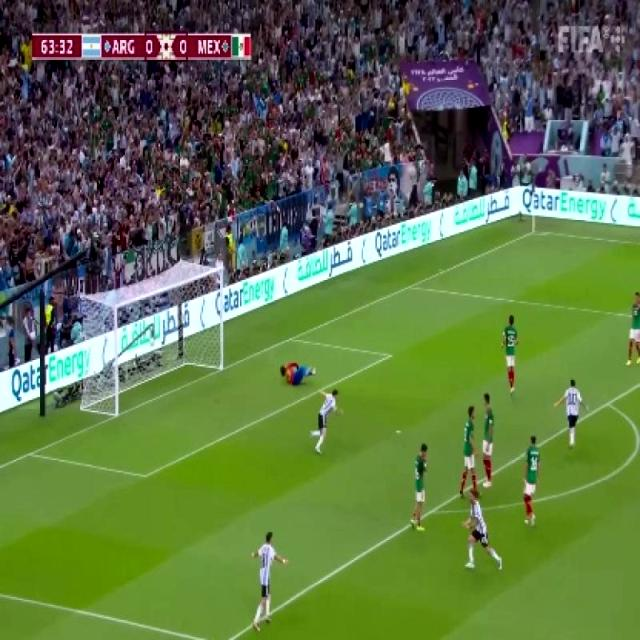bigarea_top_outter: (404, 280, 416, 292)
bottom_arc_area_intersection: (426, 504, 437, 519)
corner: (529, 228, 541, 235)
smallarea_bottom_inner: (138, 462, 152, 488)
smallarea_bottom_outter: (23, 444, 37, 462)
smallarea_top_inner: (383, 348, 395, 362)
smallarea_top_outter: (286, 332, 296, 343)
top_arc_area_intersection: (603, 396, 614, 412)
